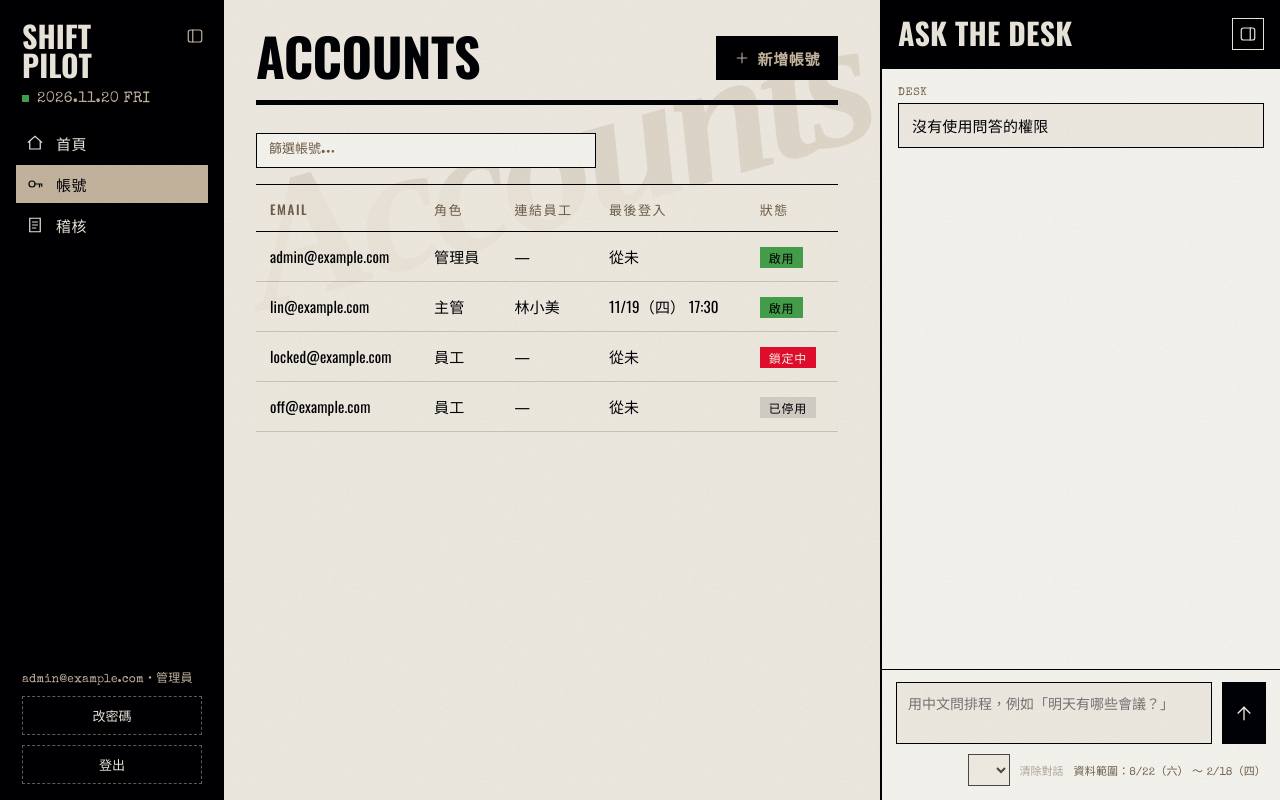
Test case: testCannotModifySelfMessageShown
Click the text "admin@example.com" at (338, 257), box [256,232,420,282]
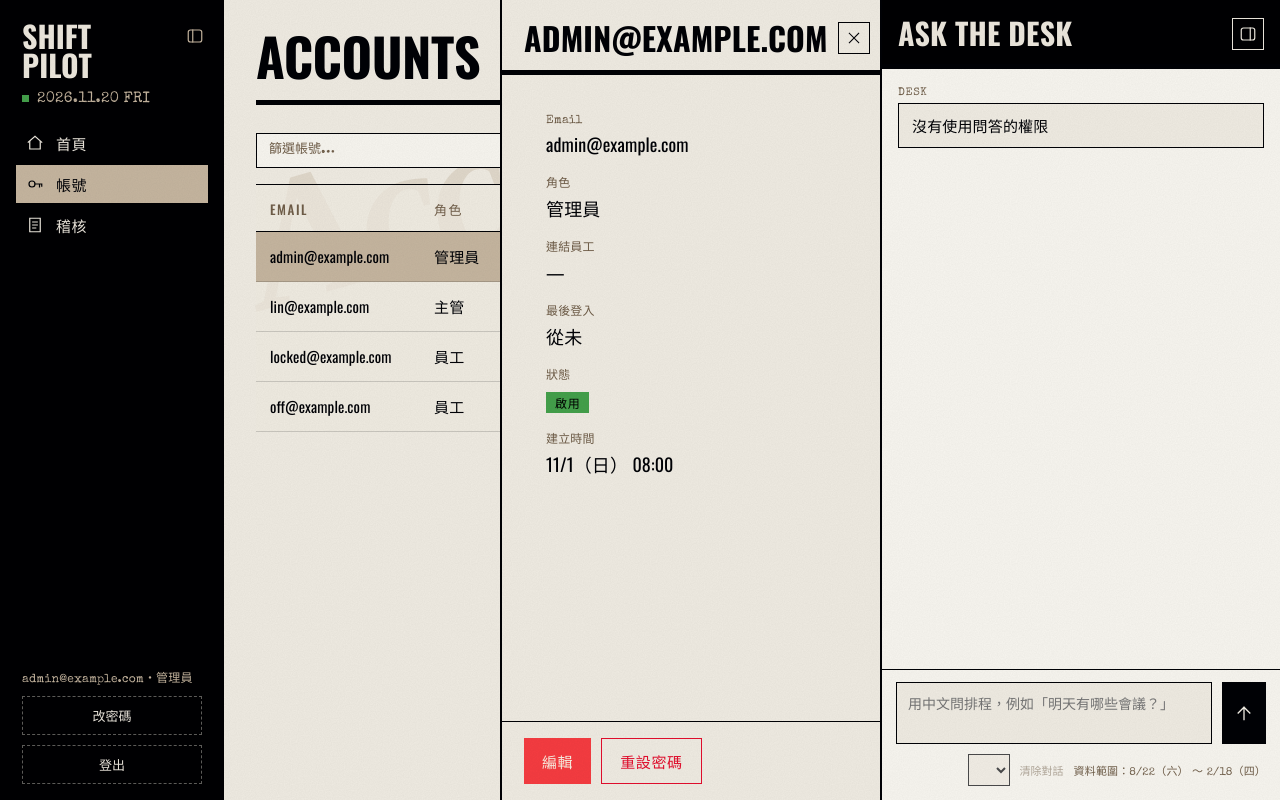
Click the button "編輯" at (558, 761), box [524,738,591,784]
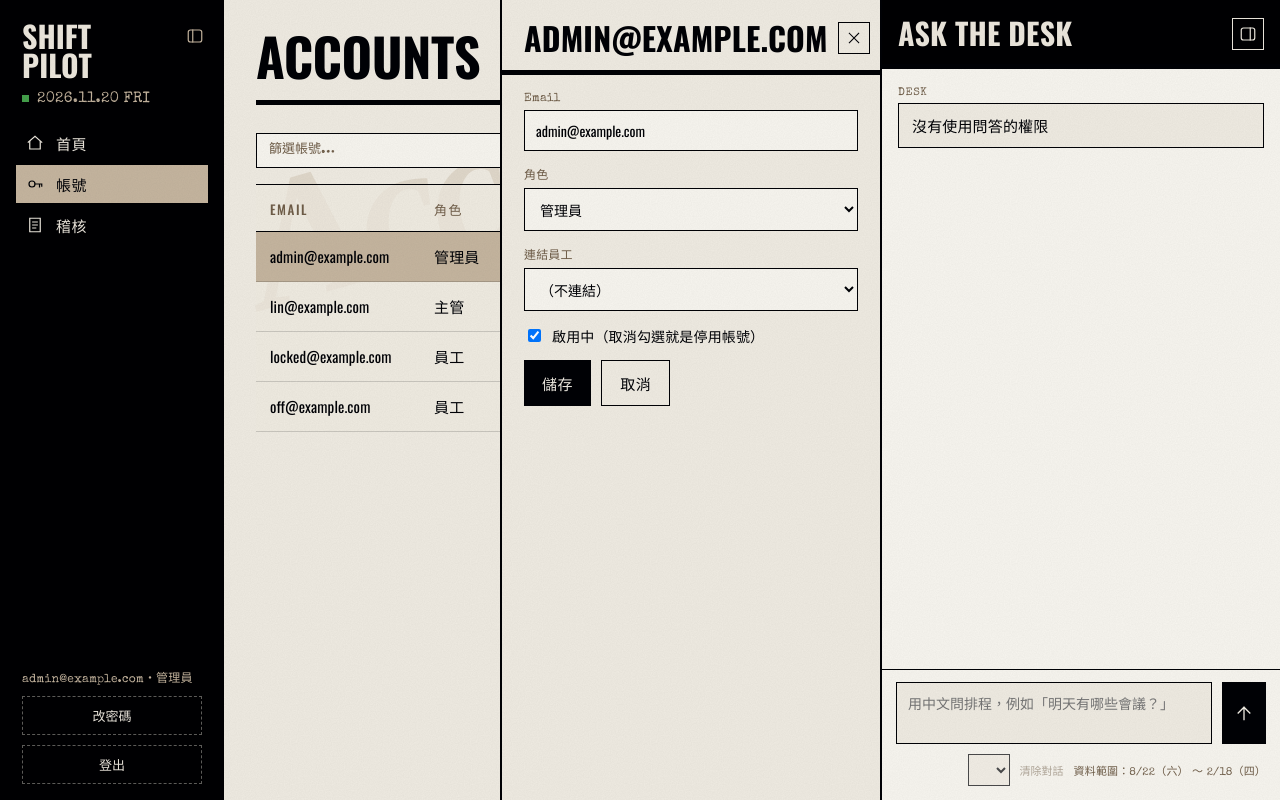
Select "員工" in the dropdown labelled "角色" at (691, 210), box [524,188,858,231]
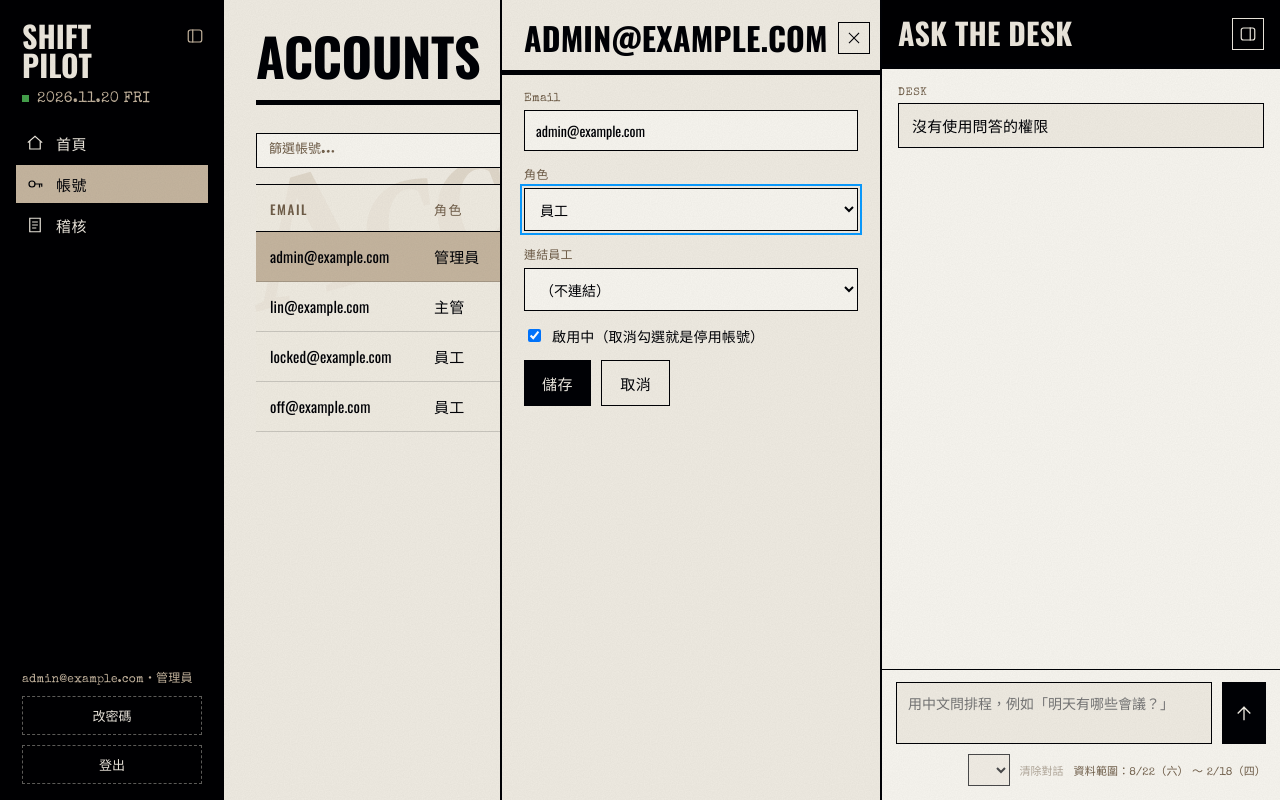
Click the button "儲存" at (558, 383), box [524,360,591,406]
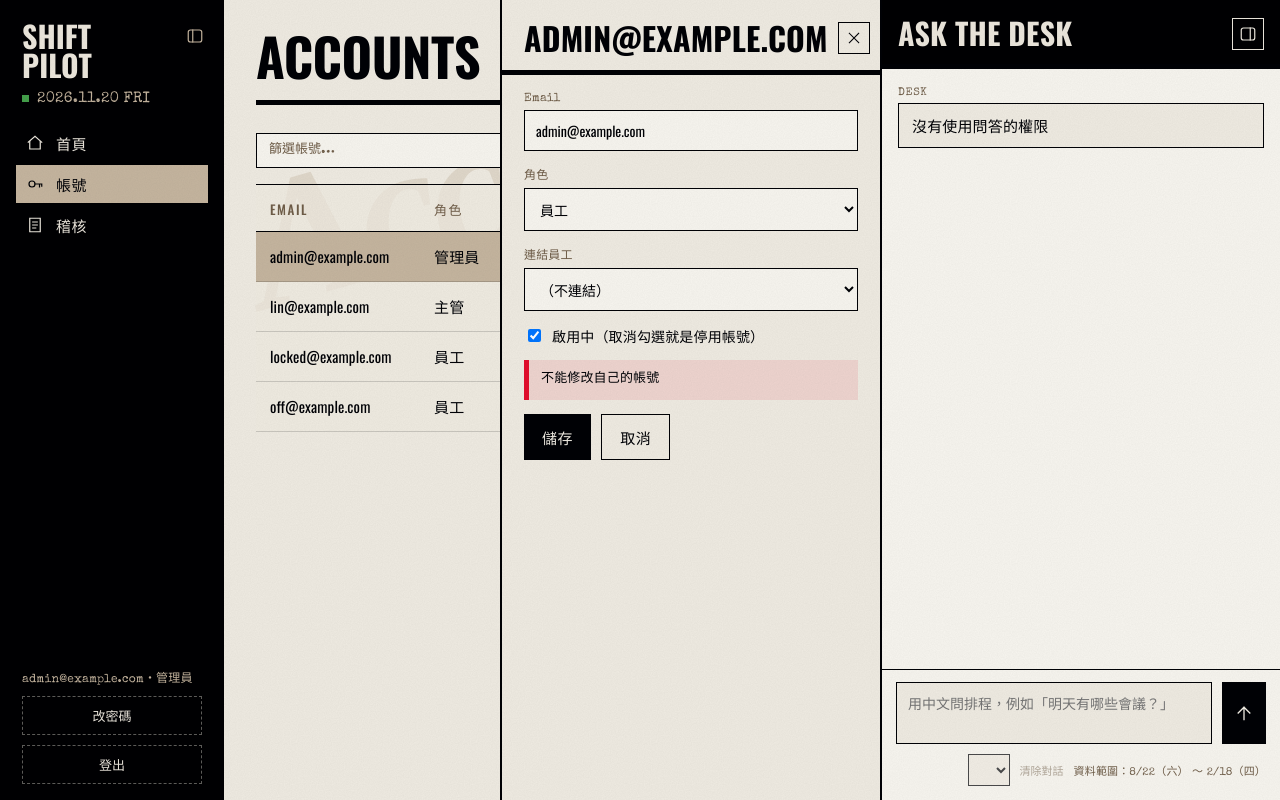
Check: the text "不能修改自己的帳號" is shown, box [524,360,858,400]
